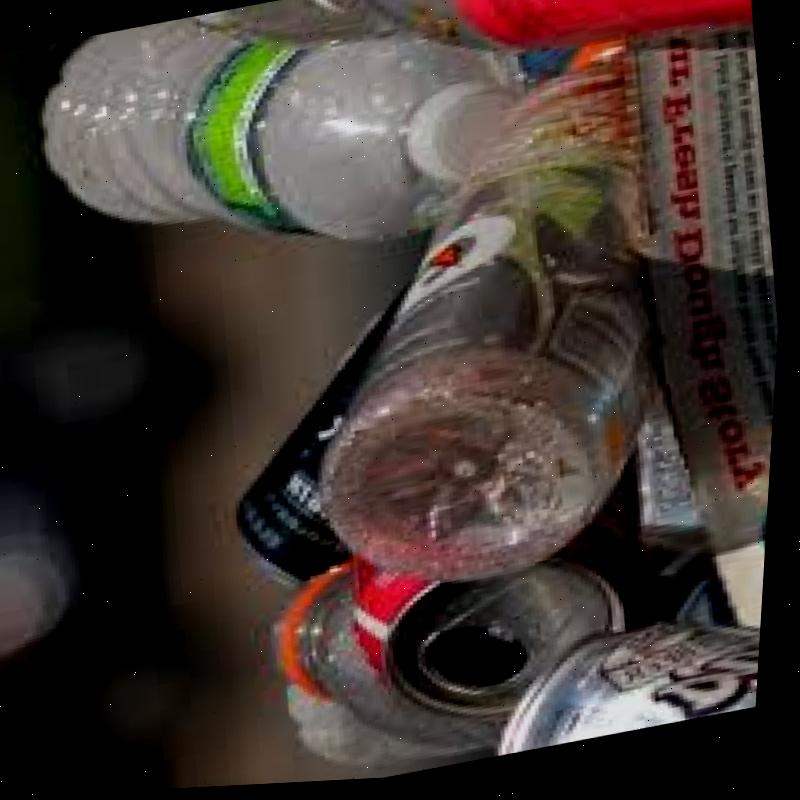botella: (262, 31, 697, 616), (21, 0, 542, 310)
